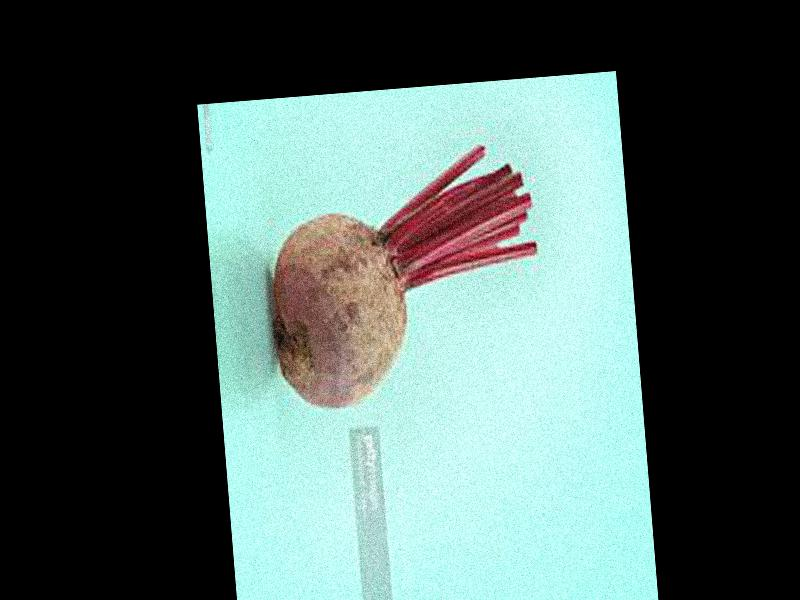Beet: (259, 143, 549, 413)
